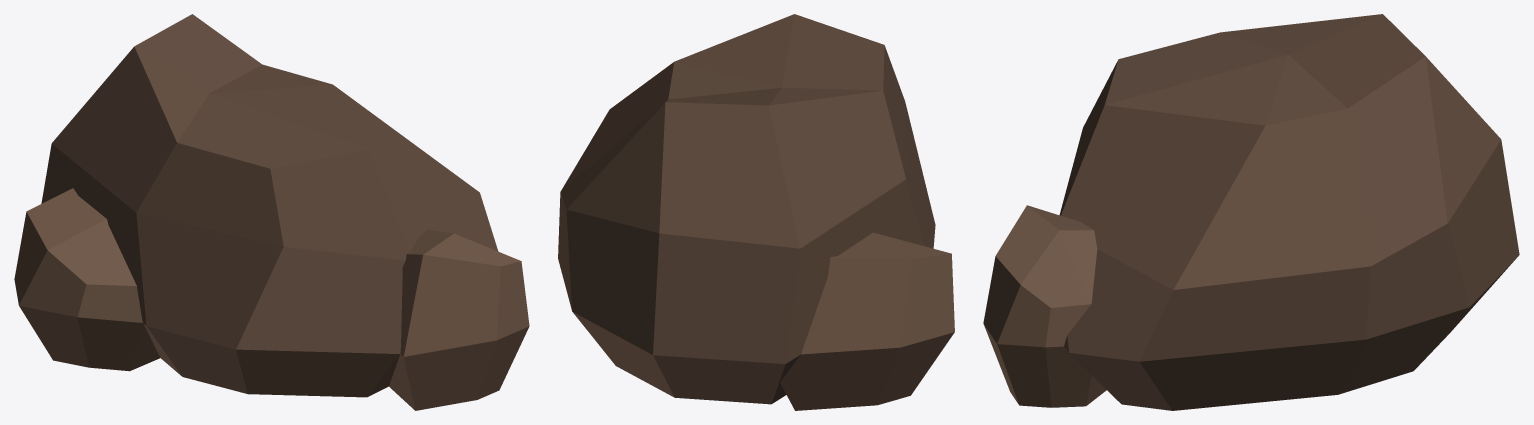
File: rock_4.fbx
The picture shows the model from 3 angles, left to right: view 1: azimuth 30°, elevation 25°; view 2: azimuth 150°, elevation 25°; view 3: azimuth 270°, elevation 25°; orthographic projection. The views are drawn at different scales.
Visible parts, largest first — view 1: rock_4; view 2: rock_4; view 3: rock_4.
Boxes of the visible parts, x1=… form: rock_4: x1=14, y1=14, x2=529, y2=410; rock_4: x1=558, y1=14, x2=954, y2=410; rock_4: x1=983, y1=14, x2=1519, y2=410.
Size of the model in its own units: 155 by 100 by 169.
